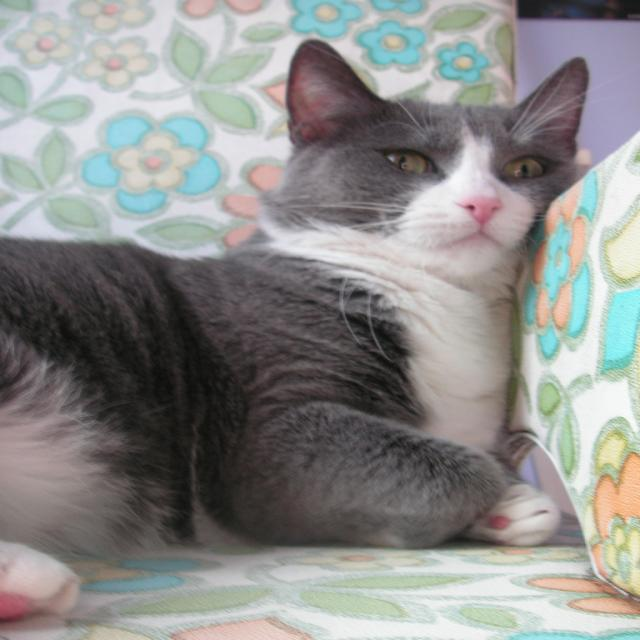cat: (1, 39, 593, 623)
